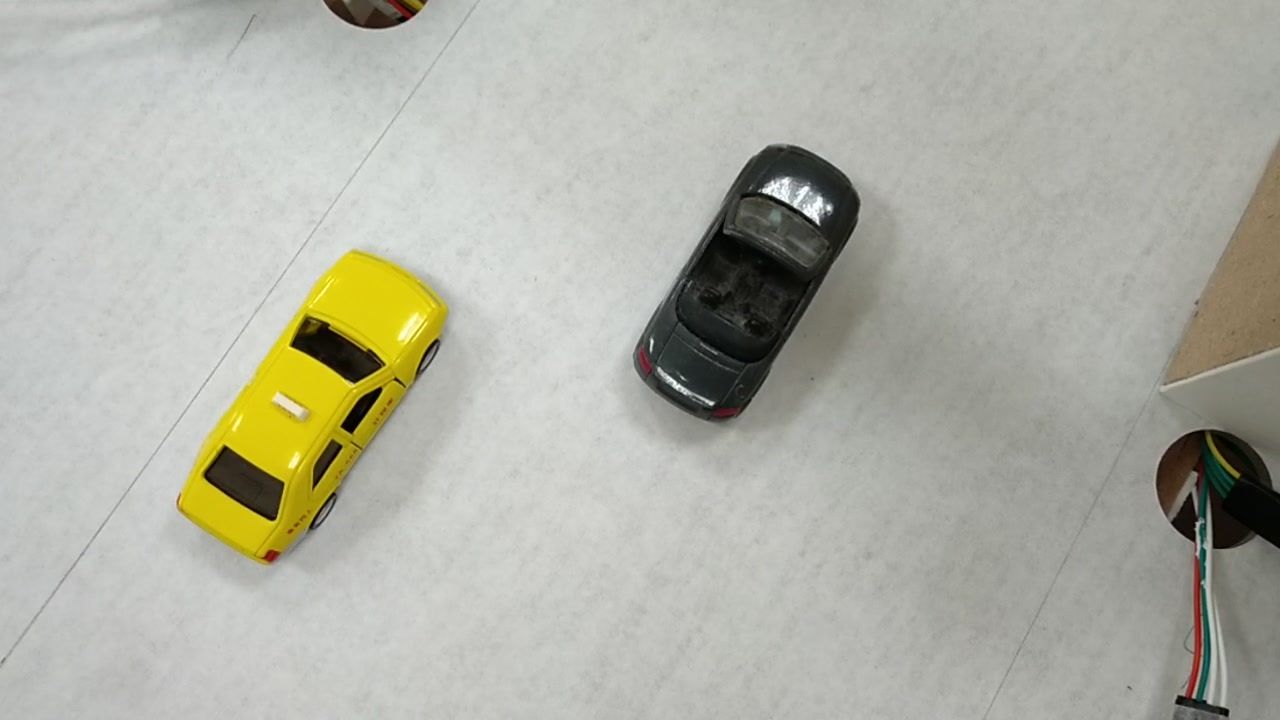car: (174, 250, 449, 566), (630, 156, 864, 414)
